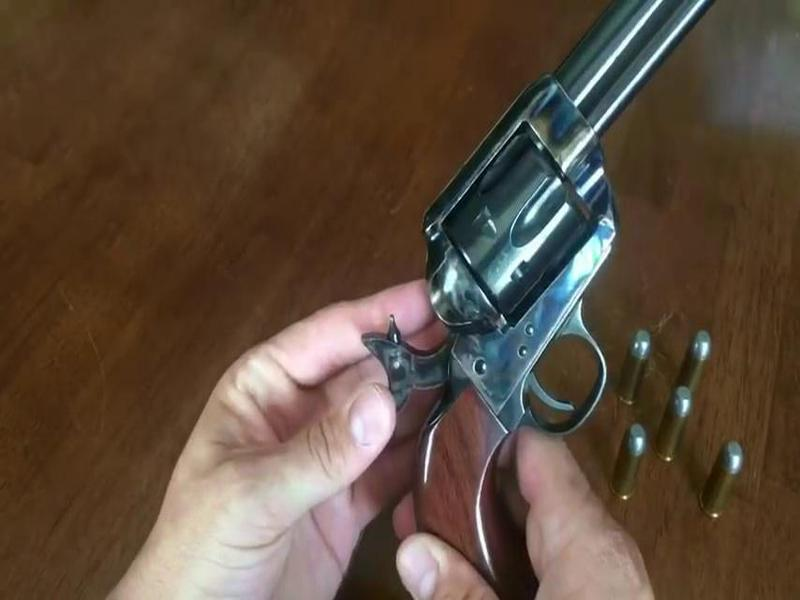Revolver: (378, 11, 736, 570)
